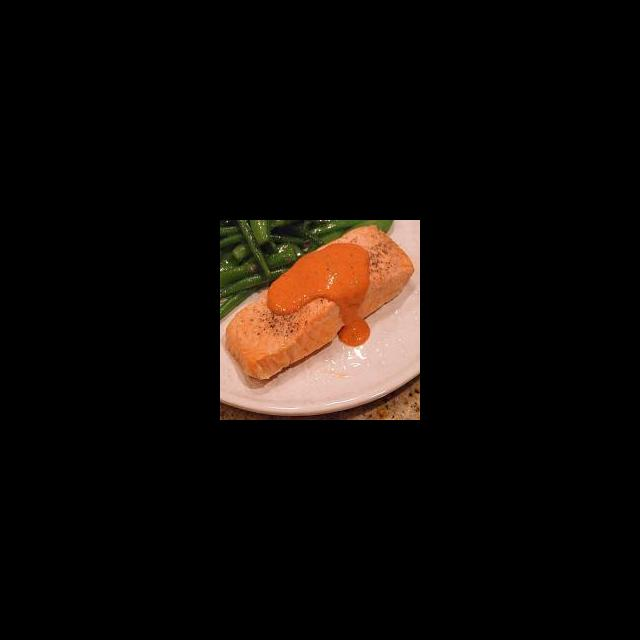ca hoi: (225, 222, 416, 384)
